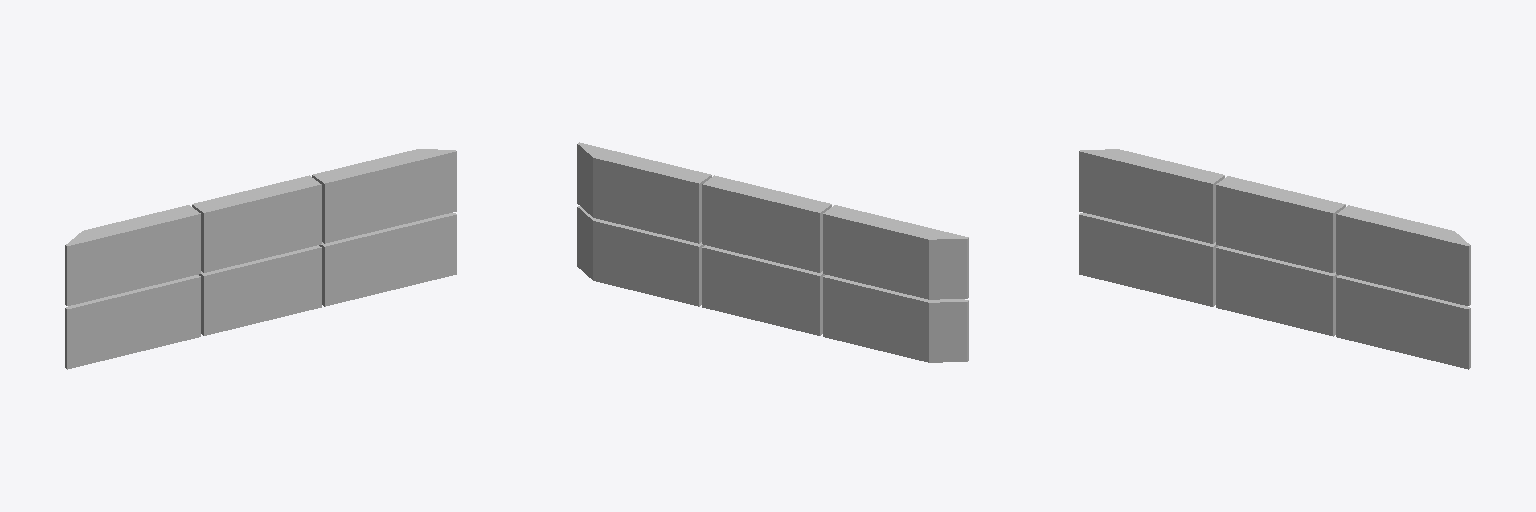
File: Nato ponton.obj
The picture shows the model from 3 angles: view 1: azimuth 30°, elevation 25°; view 2: azimuth 150°, elevation 25°; view 3: azimuth 330°, elevation 25°; orthographic projection.
Visible parts, largest first — view 1: Cube; view 2: Cube; view 3: Cube.
Boxes of the visible parts, box(x1,y1,x2,y2) form: Cube: box(65, 149, 456, 369); Cube: box(577, 142, 968, 362); Cube: box(1079, 149, 1470, 369).
Size of the model in its own units: 13.59 by 4.1 by 0.74.